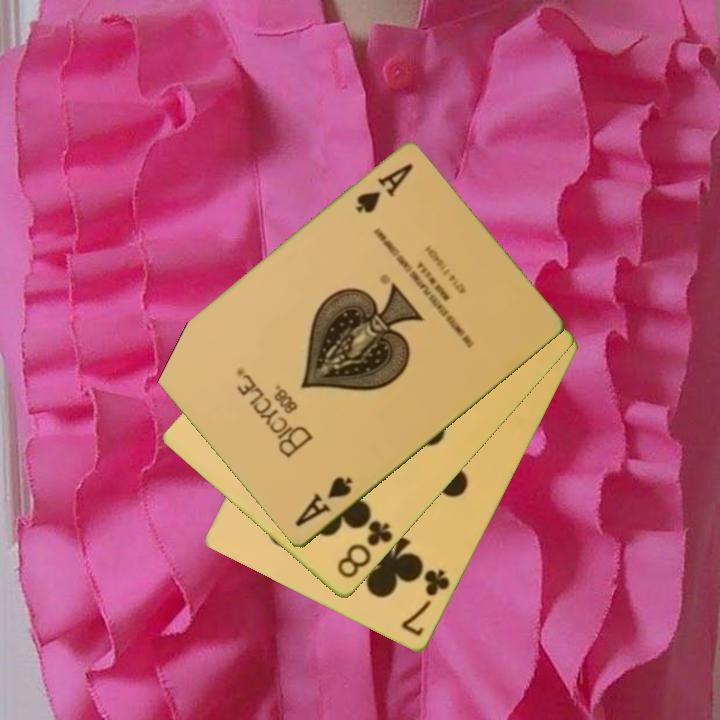7c: (398, 566, 453, 640)
8c: (333, 517, 396, 582)
As: (291, 473, 356, 530), (351, 160, 416, 217)
